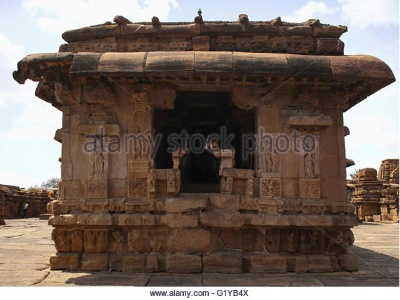mandapa: (19, 12, 371, 235)
